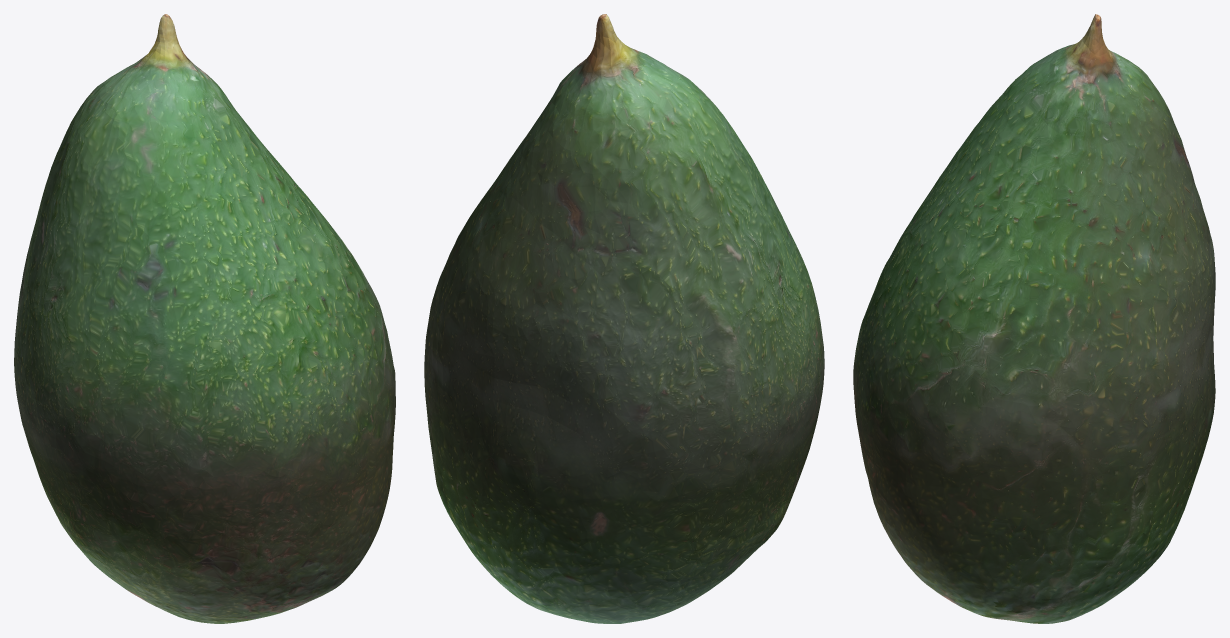
The picture shows the model from 3 angles, left to right: view 1: azimuth 30°, elevation 25°; view 2: azimuth 150°, elevation 25°; view 3: azimuth 270°, elevation 25°; orthographic projection. The views are drawn at different scales.
Visible parts, largest first — view 1: sasd; view 2: sasd; view 3: sasd.
Part boxes in pixels (x1=…): sasd: x1=14, y1=14, x2=395, y2=623; sasd: x1=424, y1=14, x2=824, y2=623; sasd: x1=853, y1=14, x2=1215, y2=623.
Size of the model in its own units: 1.98 by 3.35 by 1.91.
